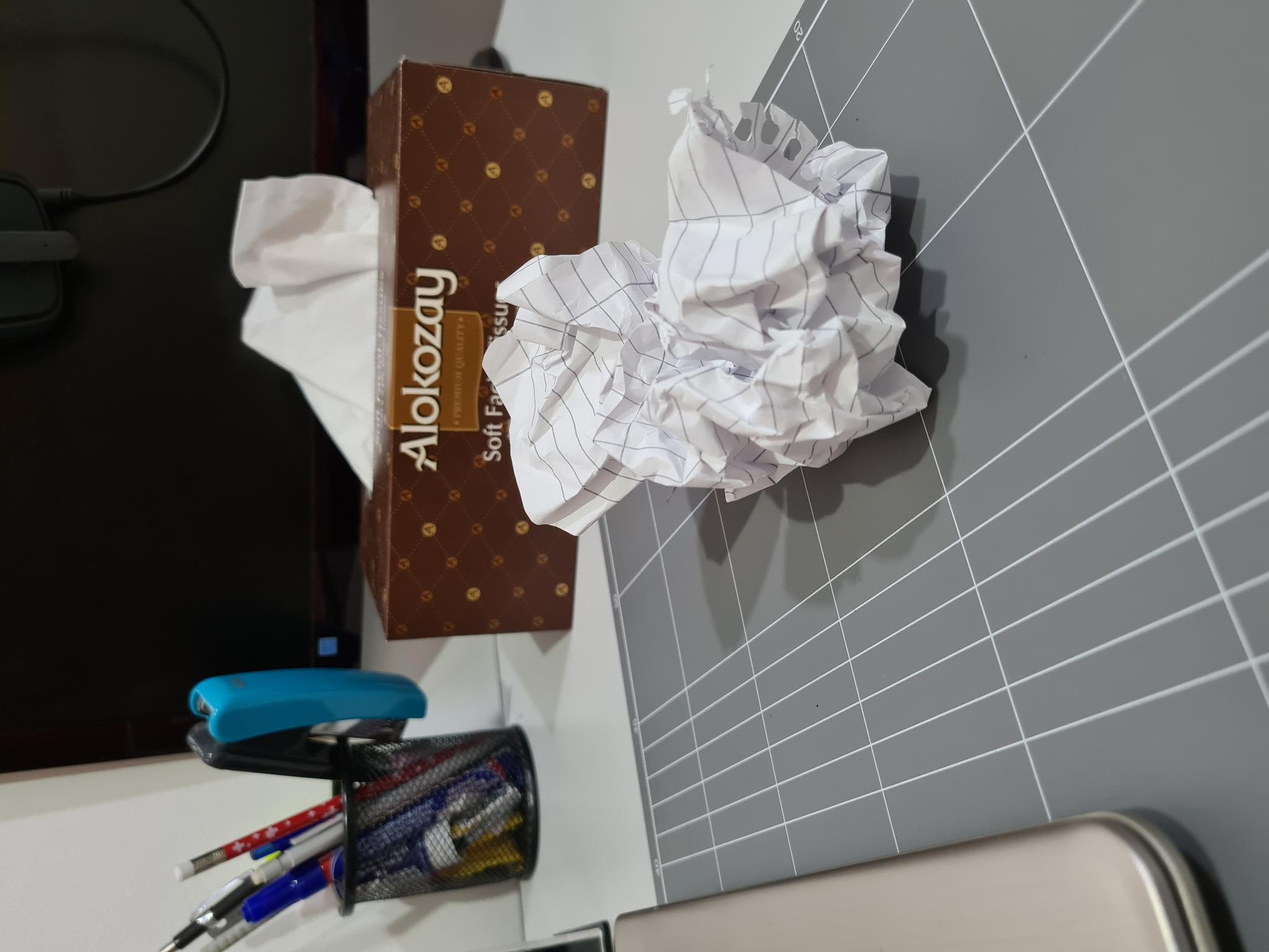Kertas: (418, 484, 862, 930)
